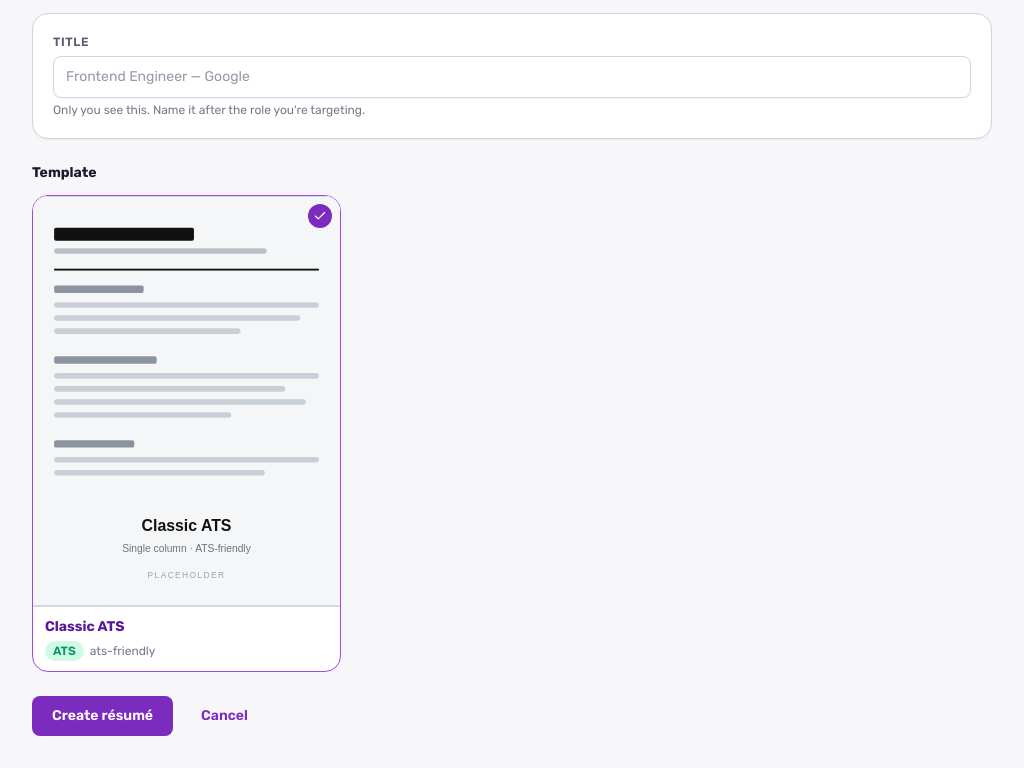
Test case: create résumé flow › refuses to submit without a title and does not redirect
(page scrolled)
Expected: the text "Classic ATS" is shown, 45,618 -> 124,635
Click the button "Create résumé": (103, 716) 32,696 -> 173,736
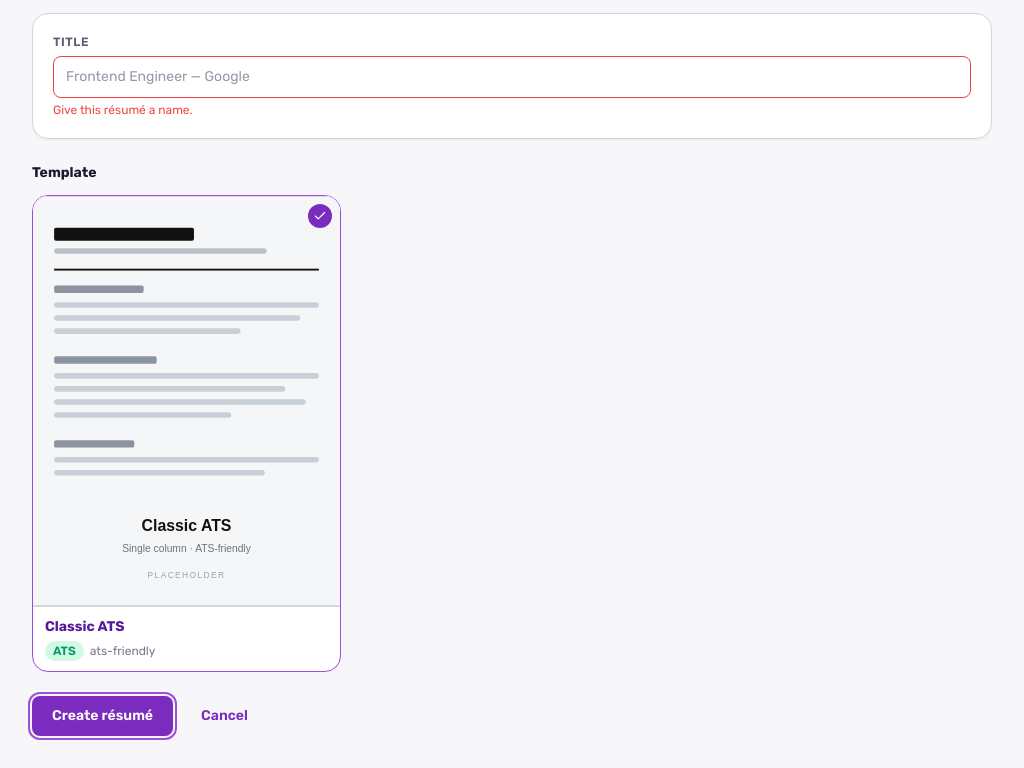
Expected: the text "Give this résumé a name." is shown, 53,103 -> 193,117
